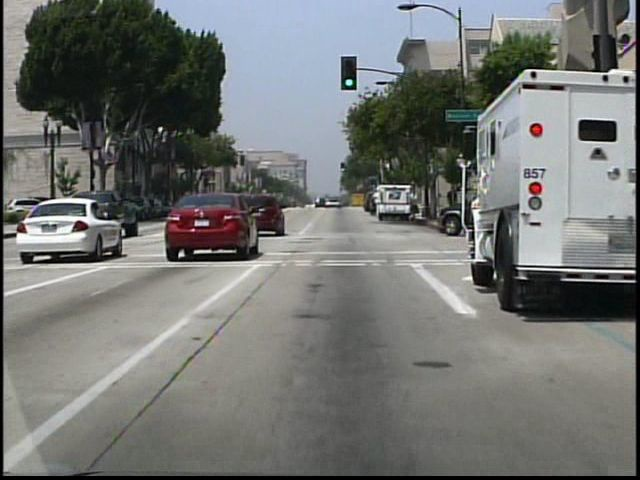person: (410, 189, 421, 223)
